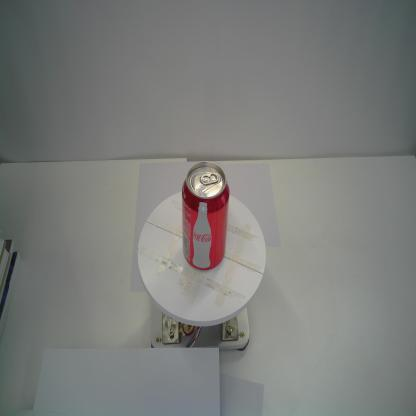Drink: (180, 158, 231, 274)
